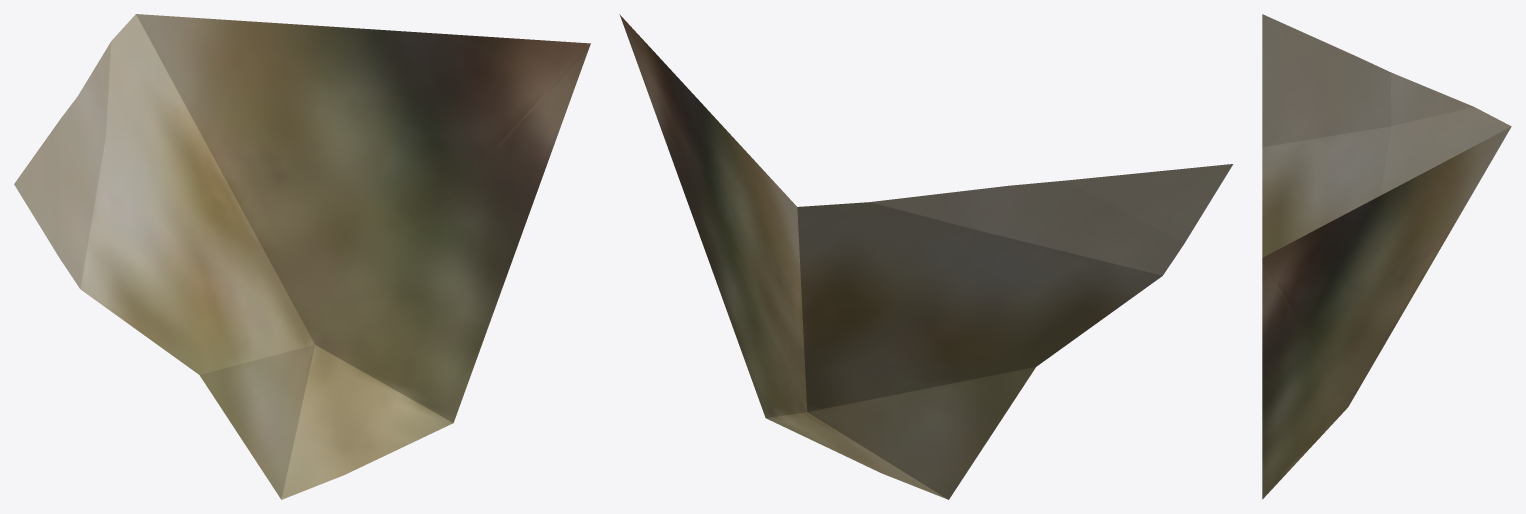
The picture shows the model from 3 angles, left to right: view 1: azimuth 30°, elevation 25°; view 2: azimuth 150°, elevation 25°; view 3: azimuth 270°, elevation 25°; orthographic projection. The views are drawn at different scales.
Size of the model in its own units: 12.56 by 7.93 by 5.43.
Materials: 1 (1 with a texture image).
